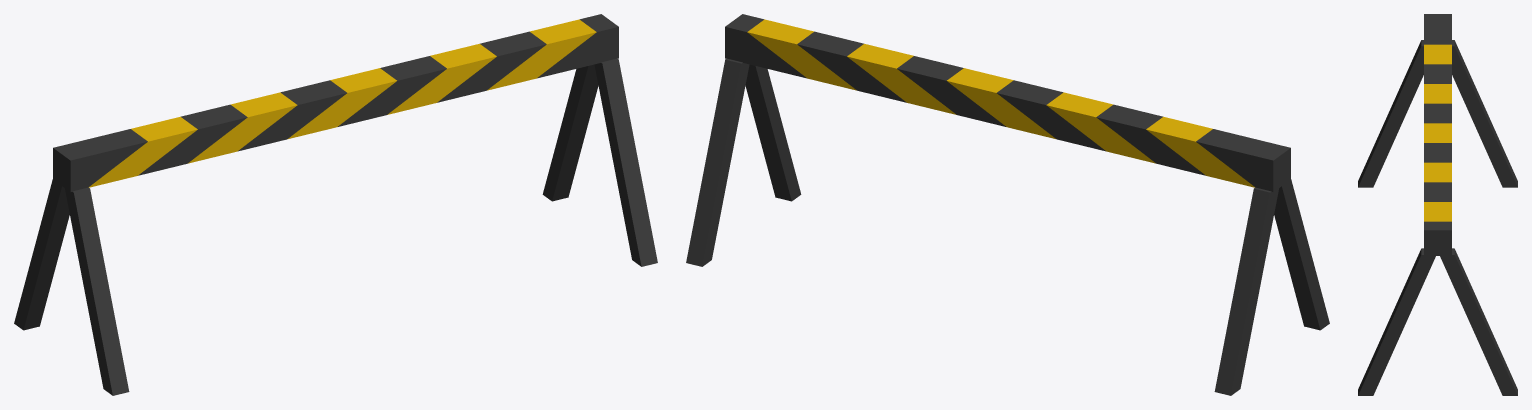
The model's file is barrier.fbx.
3 renders of one model, left to right at view 1: azimuth 30°, elevation 25°; view 2: azimuth 150°, elevation 25°; view 3: azimuth 270°, elevation 25°, orthographic. The views are drawn at different scales.
Visible parts, largest first — view 1: Cube, Cube.001, Cube.003, Cube.004, Cube.002; view 2: Cube, Cube.004, Cube.002, Cube.001, Cube.003; view 3: Cube, Cube.002, Cube.003, Cube.001, Cube.004.
Boxes of the visible parts, left/top/right/bottom form: Cube: left=53, top=14, right=618, bottom=192; Cube.001: left=65, top=187, right=129, bottom=395; Cube.003: left=594, top=58, right=657, bottom=266; Cube.004: left=14, top=179, right=69, bottom=330; Cube.002: left=542, top=64, right=598, bottom=201; Cube: left=725, top=14, right=1290, bottom=192; Cube.004: left=1214, top=187, right=1278, bottom=395; Cube.002: left=686, top=58, right=749, bottom=266; Cube.001: left=1274, top=179, right=1329, bottom=330; Cube.003: left=745, top=64, right=801, bottom=201; Cube: left=1424, top=14, right=1451, bottom=255; Cube.002: left=1440, top=248, right=1517, bottom=395; Cube.003: left=1358, top=248, right=1435, bottom=395; Cube.001: left=1358, top=40, right=1423, bottom=187; Cube.004: left=1452, top=40, right=1517, bottom=187.
Bounding box in the file's own units: 1210 × 434 × 378.
